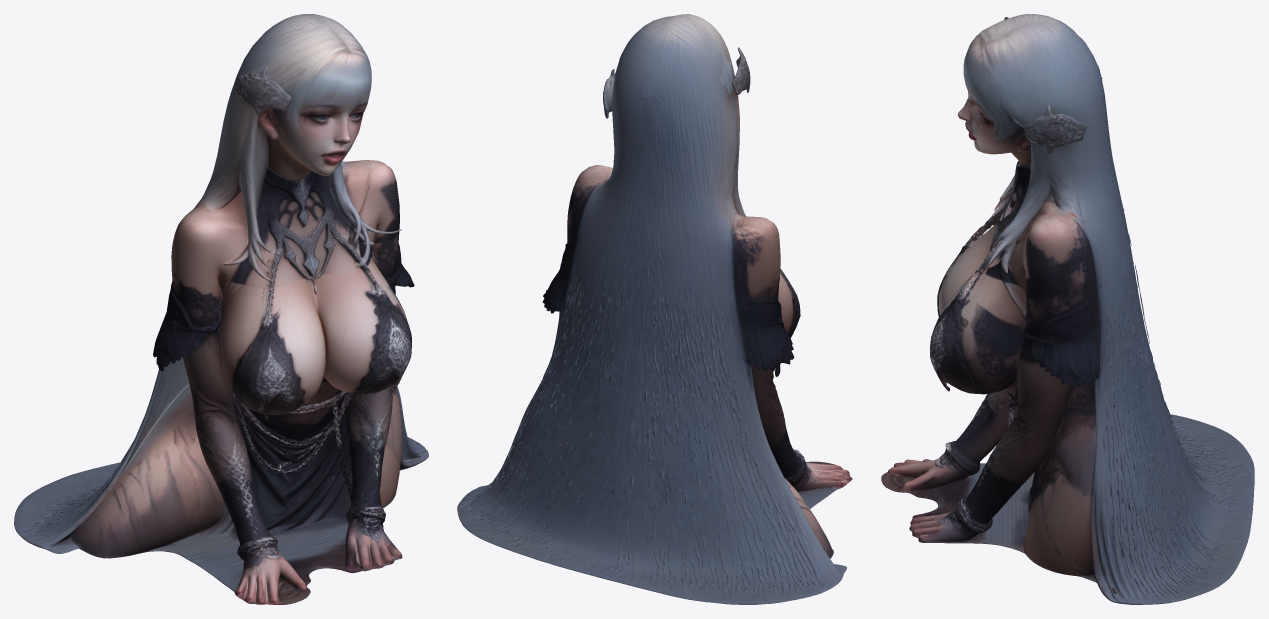
Rendered from girl-18.glb.
3 views of the same model, side by side, from view 1: azimuth 30°, elevation 25°; view 2: azimuth 150°, elevation 25°; view 3: azimuth 270°, elevation 25° (orthographic). The views are drawn at different scales.
Visible parts, largest first — view 1: node_0; view 2: node_0; view 3: node_0.
Part boxes in pixels (x1,y1,x2,y2): node_0: [14, 14, 428, 604]; node_0: [457, 14, 852, 604]; node_0: [881, 14, 1254, 604].
Bounding box in the file's own units: 0.732 × 0.8996 × 0.6023.
1 material, 1 textured.
